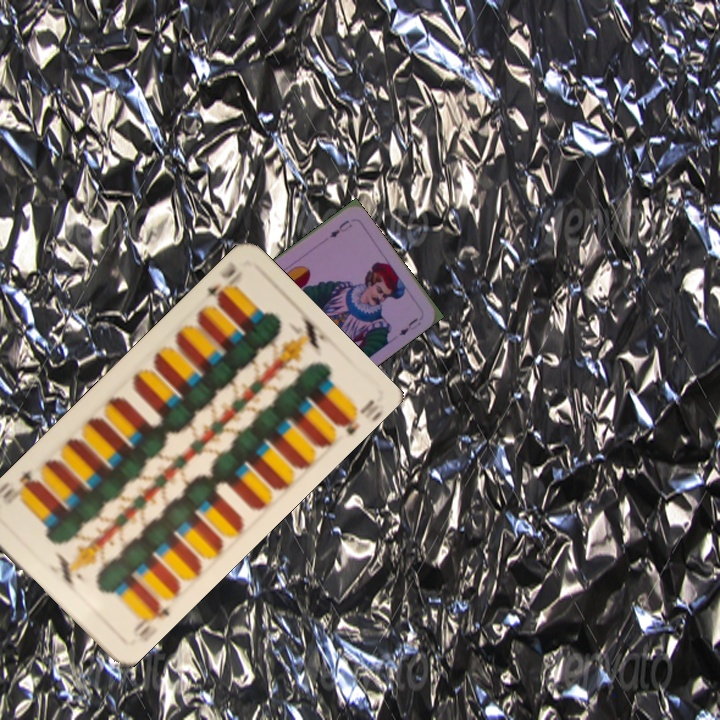E10: (196, 259, 239, 309), (128, 595, 172, 640)
EU: (325, 216, 355, 241)
